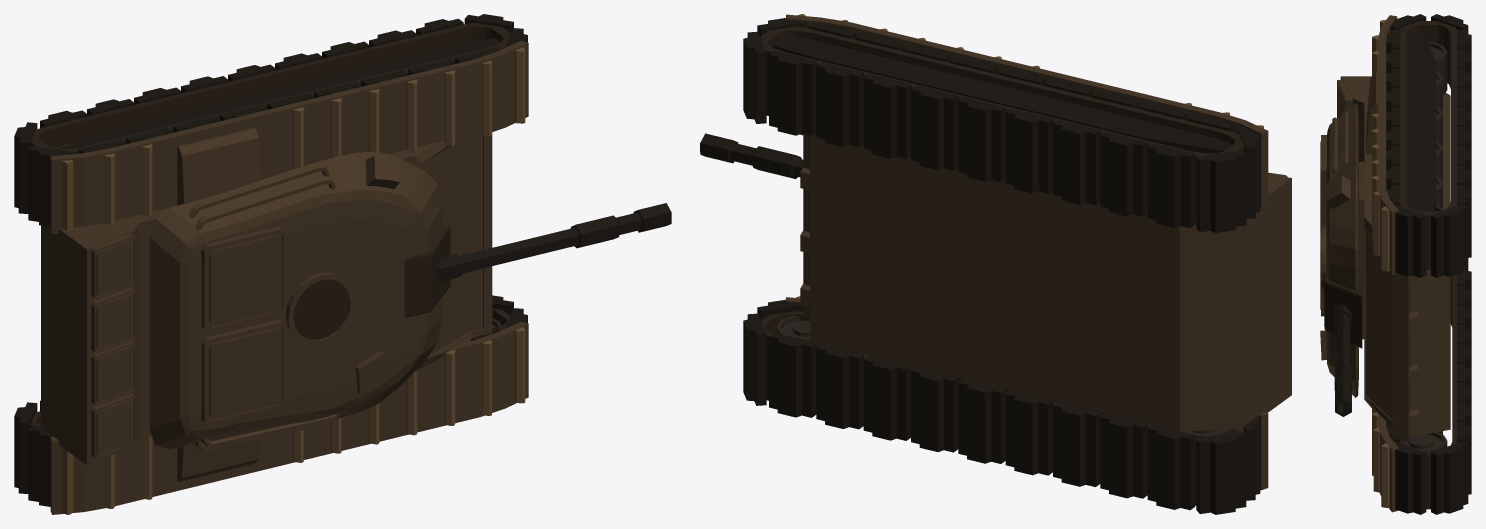
File: tank.obj
3 views of the same model, side by side, from view 1: azimuth 30°, elevation 25°; view 2: azimuth 150°, elevation 25°; view 3: azimuth 270°, elevation 25° (orthographic). The views are drawn at different scales.
Size of the model in its own units: 3.2 by 1.83 by 0.8364.
